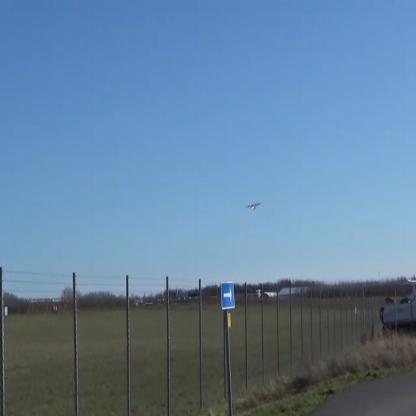CIV_Plane: (244, 198, 264, 214)
